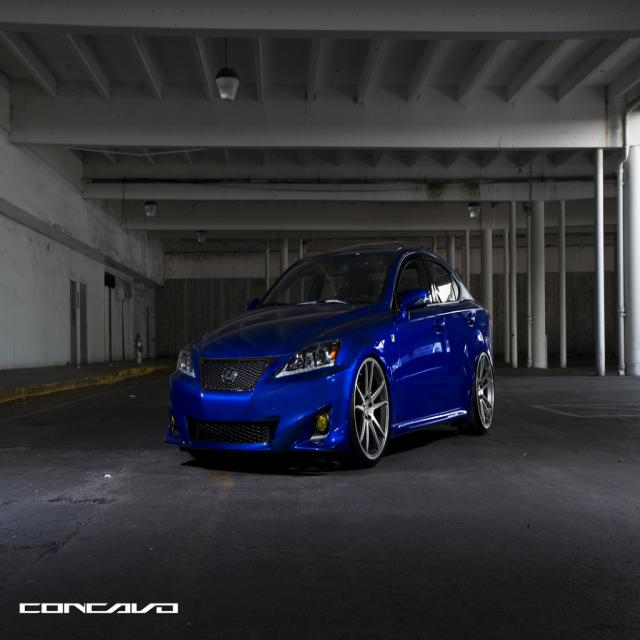car: (159, 235, 499, 472)
